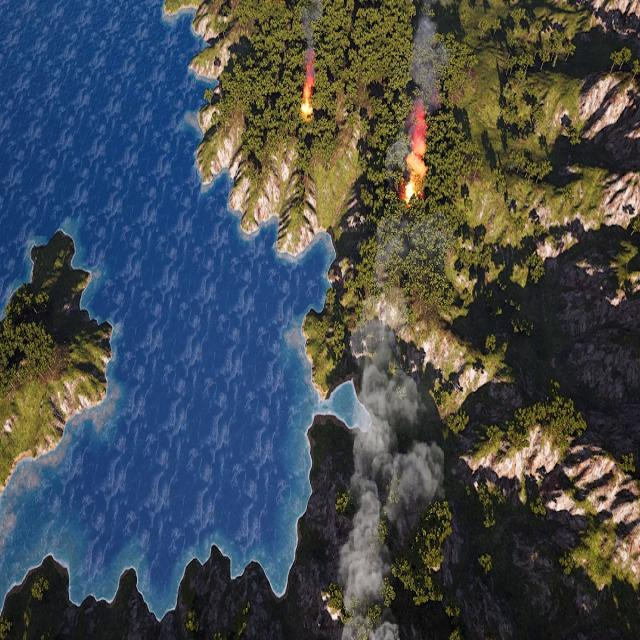fire: (403, 125, 430, 201), (302, 80, 315, 117)
smoke: (336, 236, 449, 637), (399, 1, 448, 178), (298, 0, 324, 84)
